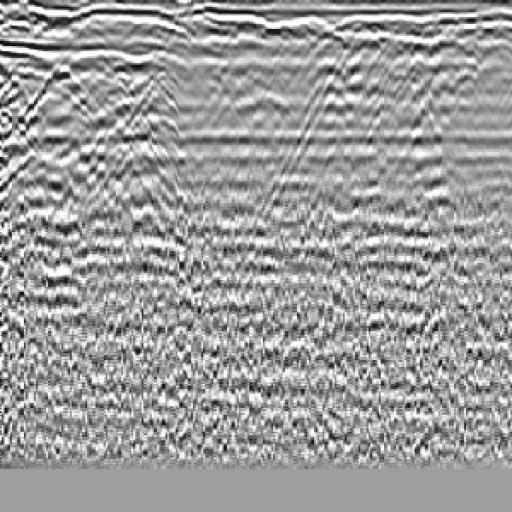non-metallic: (1, 40, 139, 277)
